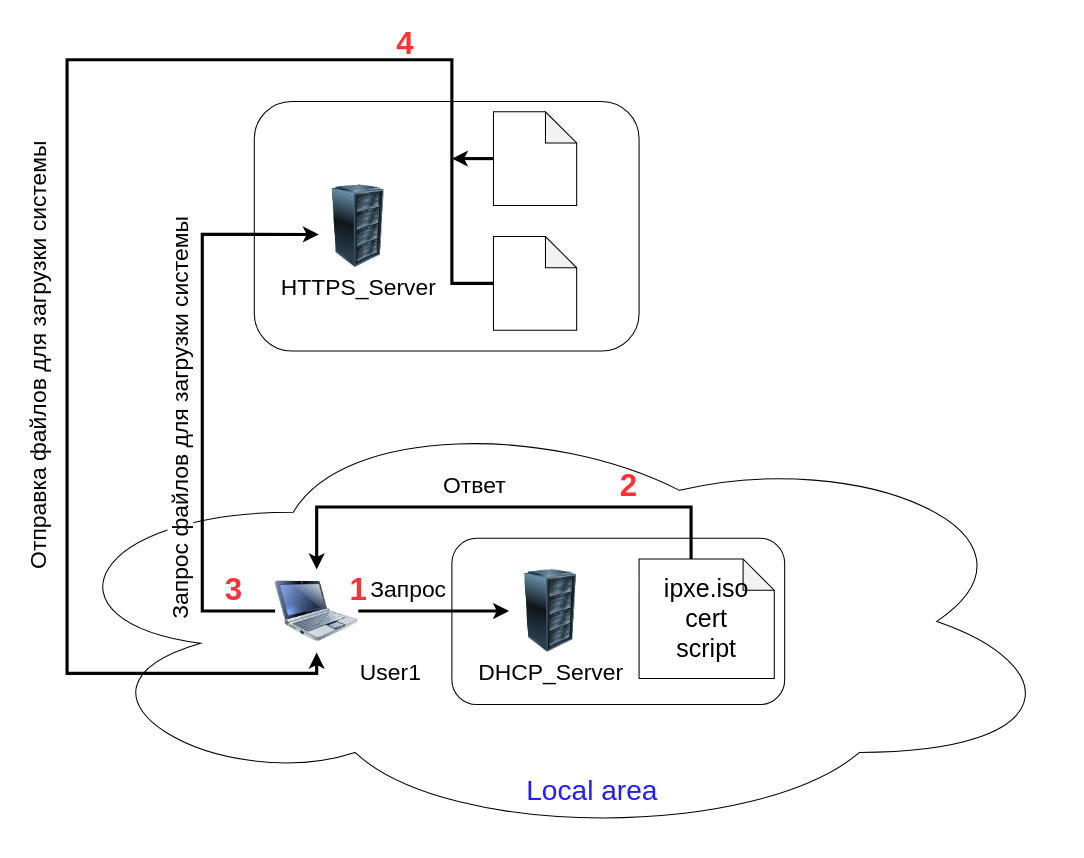
This 1084x858 diagram has some shape labels left out. The shapes that lost their labels are listed below. From the top down, each one's centre as x and y in pixels, then its label:
(534,158): Kernel
(534,283): initrd
